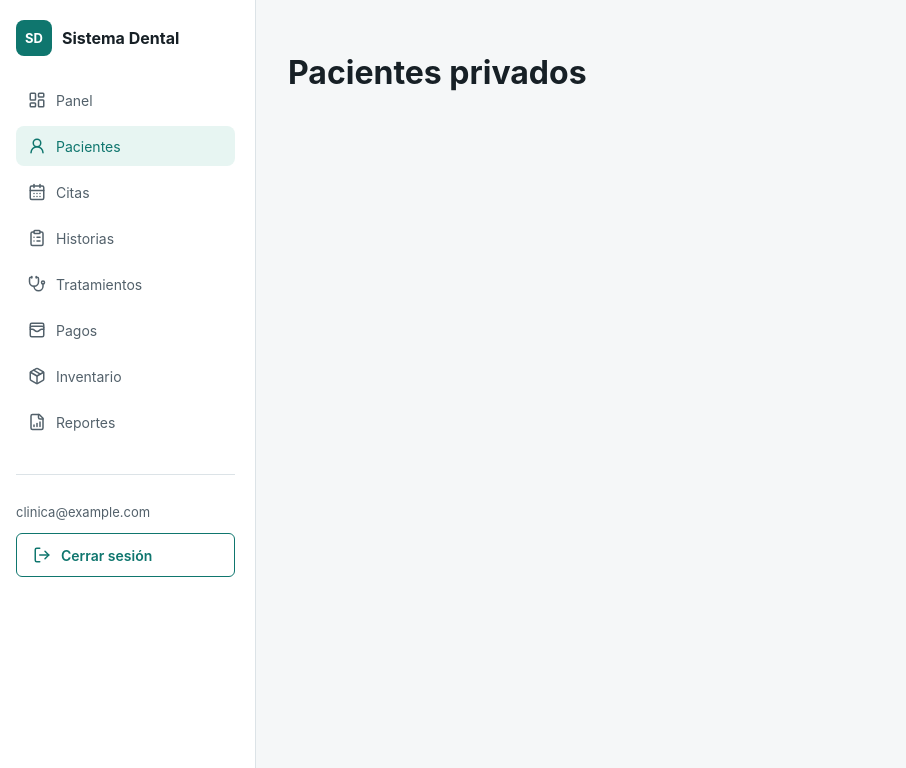
Scenario: flujo de autenticacion › restaura sesion, verifica en backend y borra cache al cerrar sesion
expect the heading "Pacientes privados" is shown: met, box [288, 53, 586, 92]
What coordinates should you click on to do the following:
click the button "Cerrar sesión"
I would click on:
 (126, 555)
Its box is [16, 533, 235, 577].
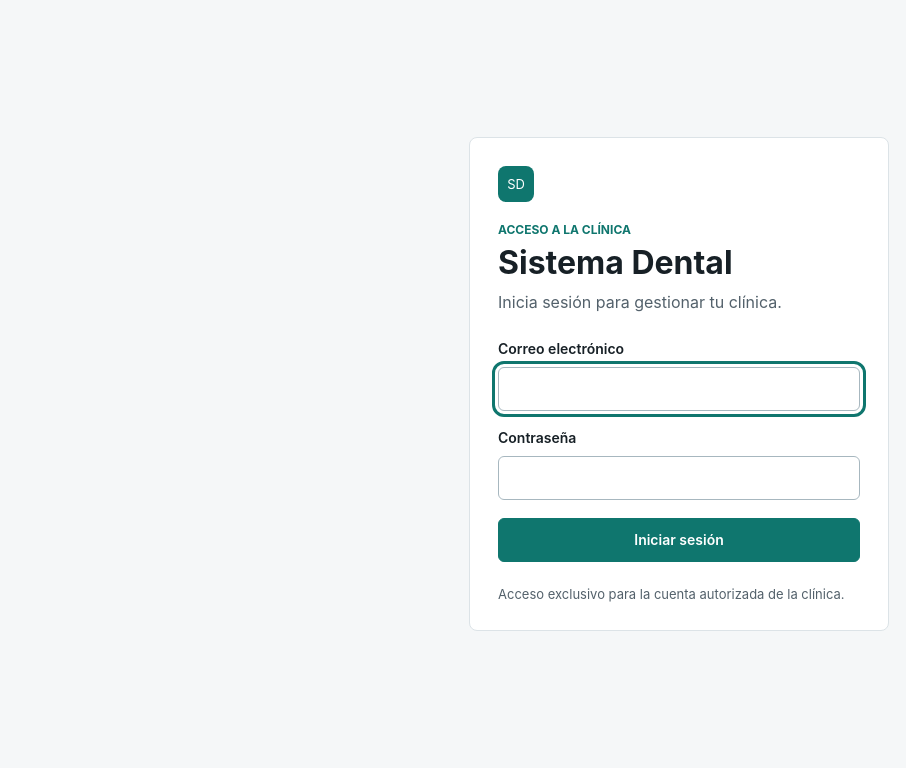
expect the button "Iniciar sesión" is shown: met, box [498, 518, 860, 562]
